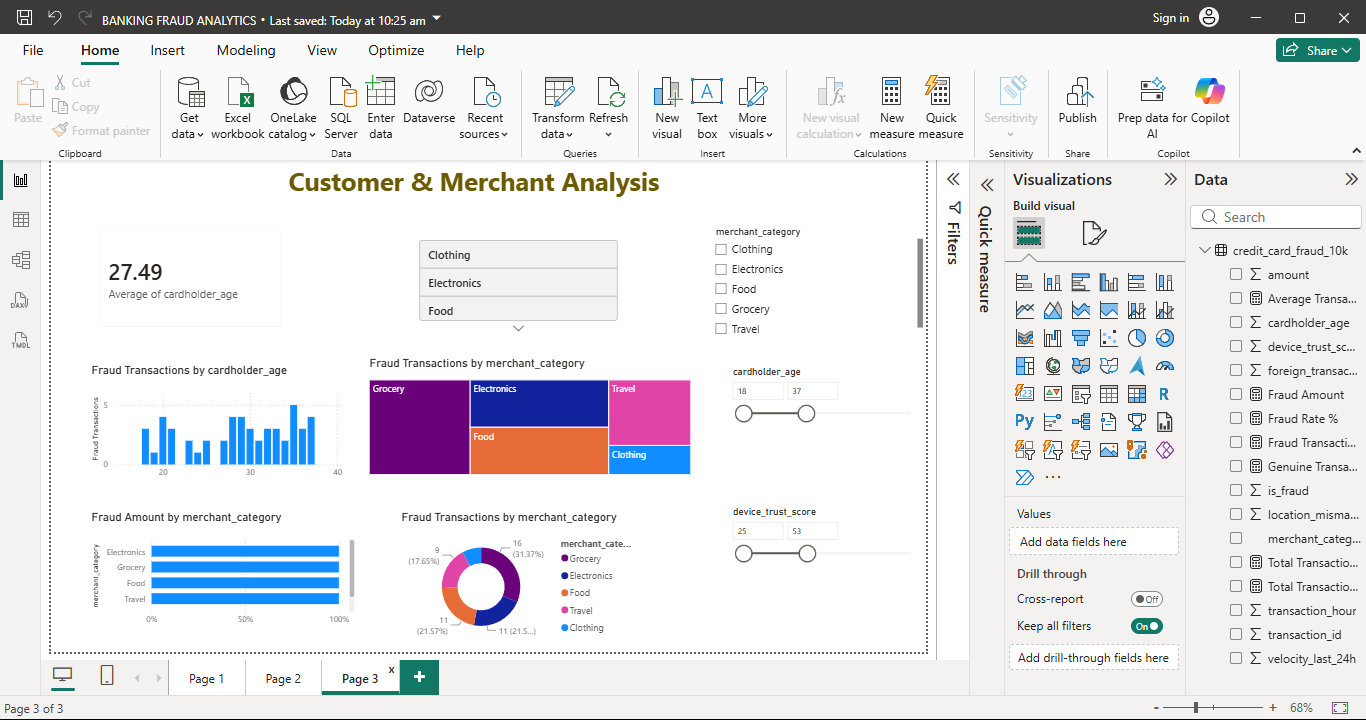

Layout of this report page (visuals, bound fields, positions):
{"tool":"powerbi","page":{"name":"Page 3","canvas":[1280,720],"ordinal":2},"visuals":[{"type":"textbox","box":[342.4,0,560.5,68.8],"z":0},{"type":"cardVisual","fields":{"Data":["Avg(credit_card_fraud_10k.cardholder_age)"]},"box":[54.1,83.4,300,178.5],"z":1000},{"type":"cardVisual","fields":{"Rows":["credit_card_fraud_10k.merchant_category"]},"box":[534.1,92.2,300,169.8],"z":2000},{"type":"columnChart","fields":{"Category":["credit_card_fraud_10k.cardholder_age"],"Y":["credit_card_fraud_10k.Fraud Transactions"]},"box":[54.1,297.1,377.6,178.5],"z":3000},{"type":"hundredPercentStackedBarChart","fields":{"Category":["credit_card_fraud_10k.merchant_category"],"Y":["credit_card_fraud_10k.Fraud Amount"]},"box":[54.1,512.2,395.1,178.5],"z":4000},{"type":"treemap","fields":{"Group":["credit_card_fraud_10k.merchant_category"],"Values":["credit_card_fraud_10k.Fraud Transactions"]},"box":[461,286.8,480,178.5],"z":5000},{"type":"donutChart","fields":{"Category":["credit_card_fraud_10k.merchant_category"],"Y":["credit_card_fraud_10k.Fraud Transactions"]},"box":[507.8,512.2,354.1,194.6],"z":6000},{"type":"slicer","fields":{"Values":["credit_card_fraud_10k.merchant_category"]},"box":[960,92.2,321,170],"z":7000},{"type":"slicer","fields":{"Values":["credit_card_fraud_10k.cardholder_age"]},"box":[984.9,297.1,295.6,178.5],"z":8000},{"type":"slicer","fields":{"Values":["credit_card_fraud_10k.device_trust_score"]},"box":[984.9,502,295.6,174.1],"z":9000},{"type":"slicer","fields":{"Values":["credit_card_fraud_10k.is_fraud"]},"box":[980,482.9,300,158],"z":10000}]}

Visuals, with their boxes on the page's 1280x720 design canvas (x1, y1, x2, y2). These are canvas units, not pixel positions in the 1366x720 screenshot, which may show the page scaled, cropped or inside an application window:
textbox: l=342, t=0, r=903, b=69
cardVisual - Avg(credit_card_fraud_10k.cardholder_age): l=54, t=83, r=354, b=262
cardVisual - credit_card_fraud_10k.merchant_category: l=534, t=92, r=834, b=262
columnChart - credit_card_fraud_10k.cardholder_age x credit_card_fraud_10k.Fraud Transactions: l=54, t=297, r=432, b=476
hundredPercentStackedBarChart - credit_card_fraud_10k.merchant_category x credit_card_fraud_10k.Fraud Amount: l=54, t=512, r=449, b=691
treemap - credit_card_fraud_10k.merchant_category x credit_card_fraud_10k.Fraud Transactions: l=461, t=287, r=941, b=465
donutChart - credit_card_fraud_10k.merchant_category x credit_card_fraud_10k.Fraud Transactions: l=508, t=512, r=862, b=707
slicer - credit_card_fraud_10k.merchant_category: l=960, t=92, r=1281, b=262
slicer - credit_card_fraud_10k.cardholder_age: l=985, t=297, r=1280, b=476
slicer - credit_card_fraud_10k.device_trust_score: l=985, t=502, r=1280, b=676
slicer - credit_card_fraud_10k.is_fraud: l=980, t=483, r=1280, b=641
